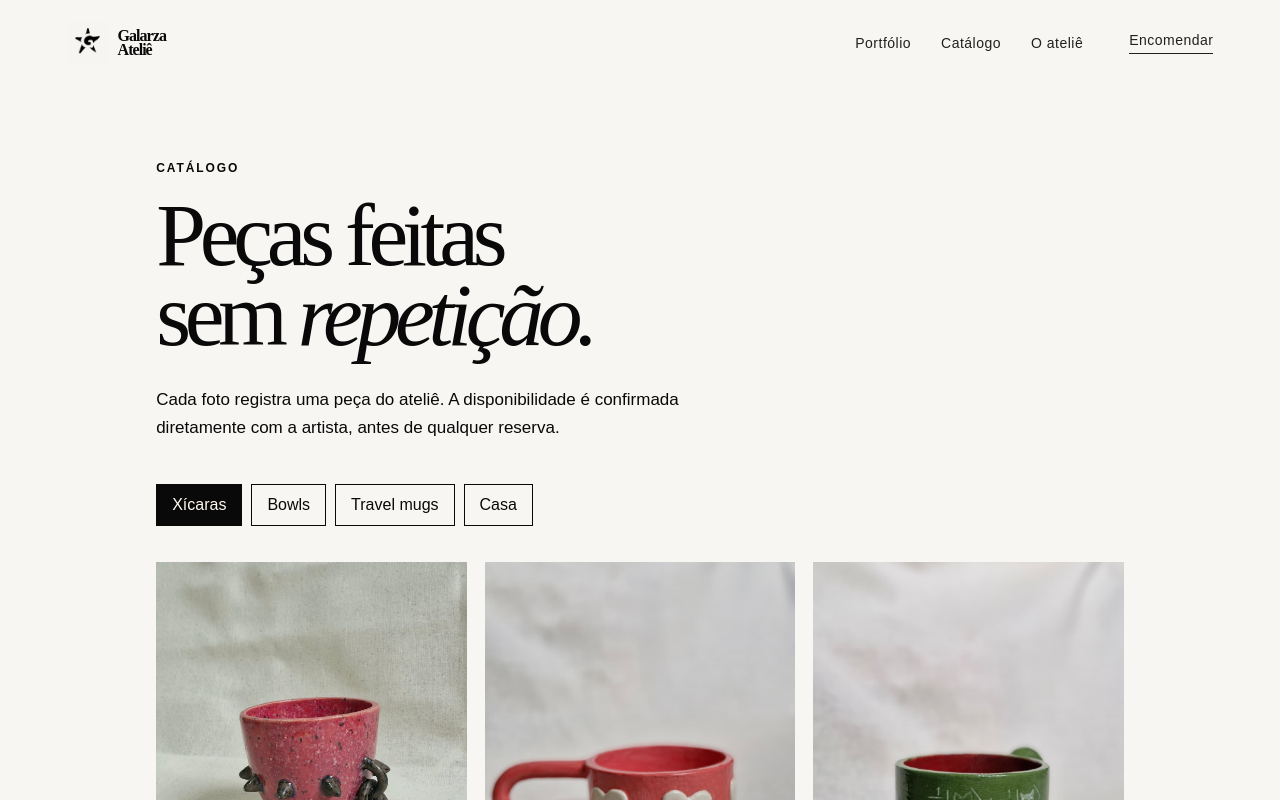
filters the catalog without promising inventory
The image size is (1280, 800).
Click the tab "Bowls" at (289,505), box top-left (251, 484), bottom-right (326, 526)
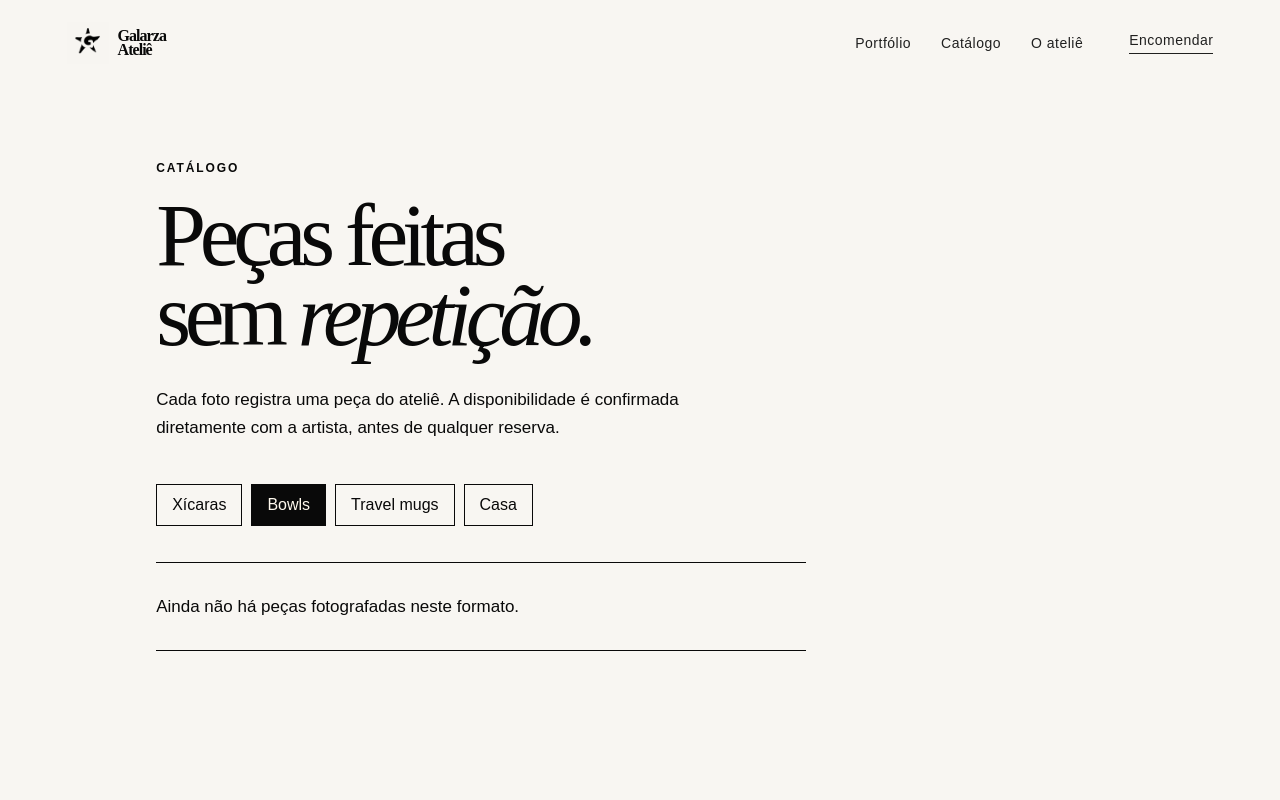
Now the text "Ainda não há peças fotografadas neste formato." is shown, box top-left (156, 562), bottom-right (806, 651)
Click the tab "Casa" at (498,505), box top-left (464, 484), bottom-right (533, 526)
(page scrolled)
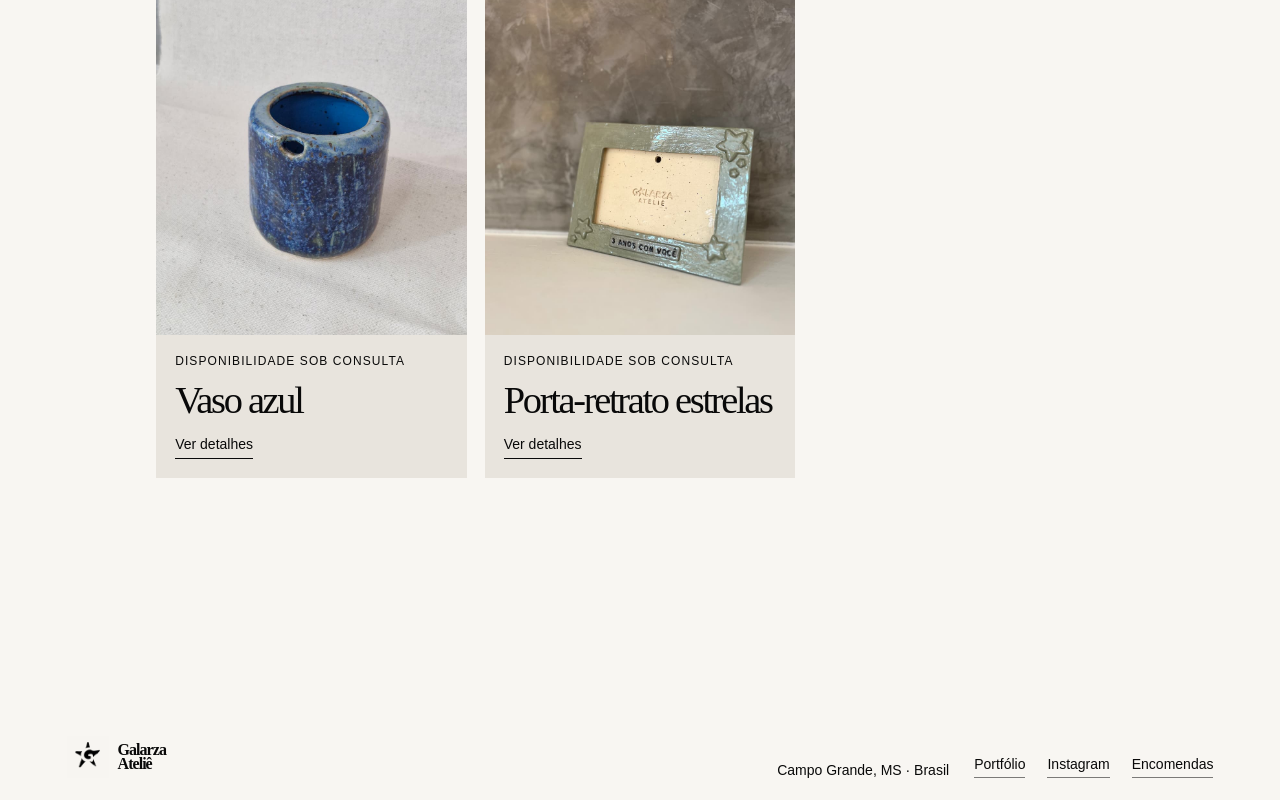
Now the heading "Vaso azul" is shown, box top-left (175, 379), bottom-right (303, 421)
